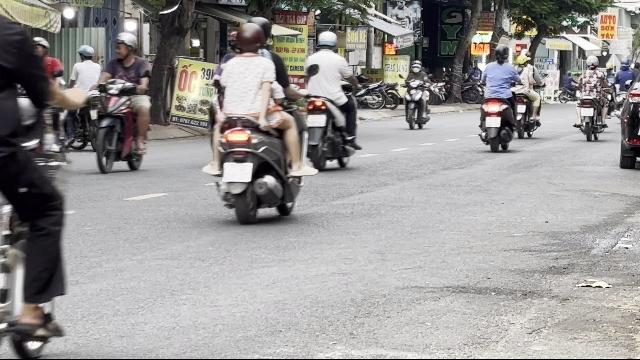helmet: (234, 22, 266, 54), (112, 31, 136, 60), (315, 31, 337, 51), (493, 44, 509, 62)
licenseplate: (223, 162, 251, 182), (306, 114, 326, 126), (486, 116, 500, 128)
motorcyclist: (200, 20, 304, 224), (90, 30, 154, 173), (300, 30, 362, 170), (472, 40, 524, 152)
